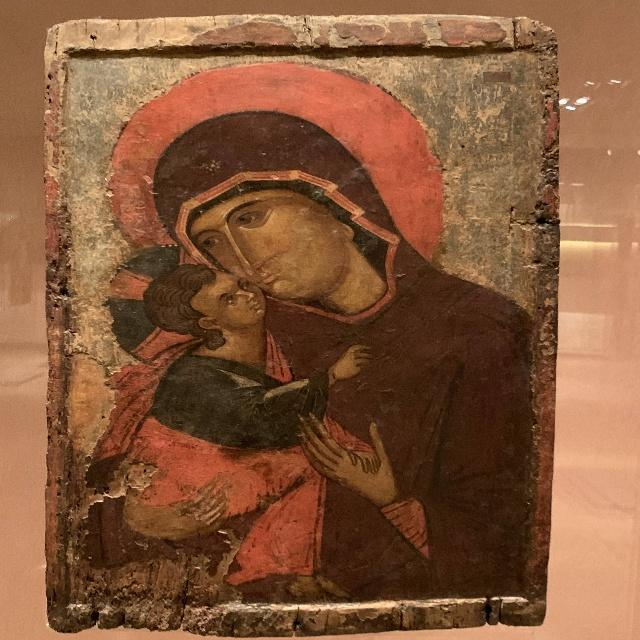christ_child: (95, 245, 372, 610)
mary: (110, 63, 526, 595)
